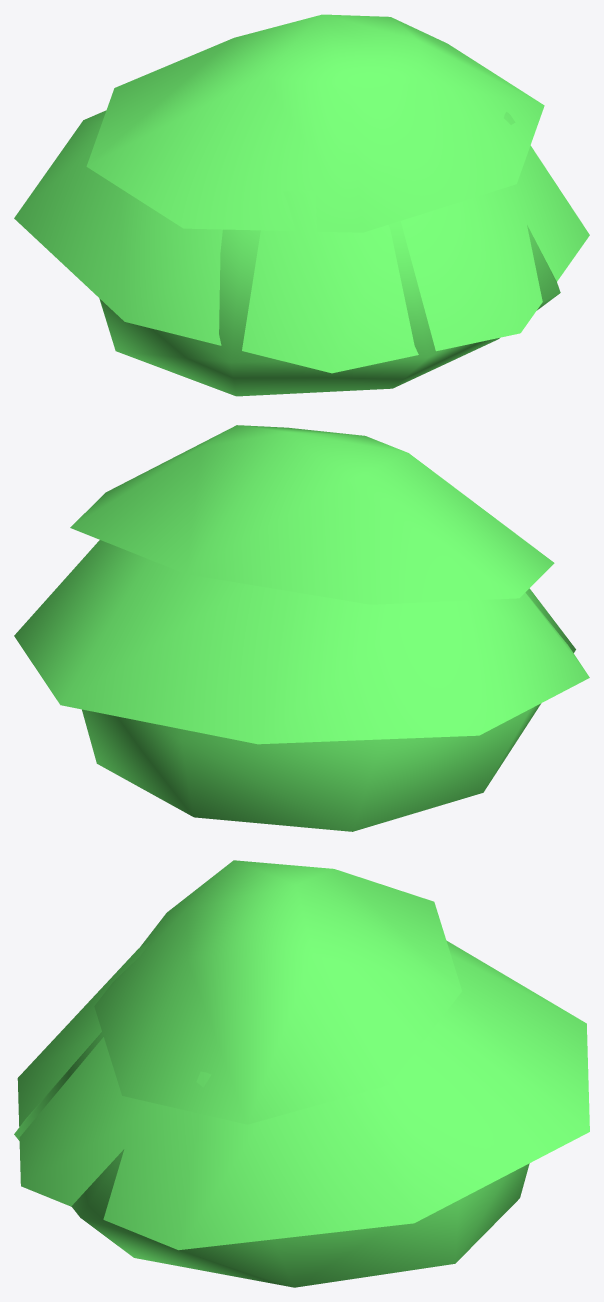
Rendered from Bush (4).fbx.
3 renders of one model, top to bottom at view 1: azimuth 30°, elevation 25°; view 2: azimuth 150°, elevation 25°; view 3: azimuth 270°, elevation 25°, orthographic. The views are drawn at different scales.
Visible parts, largest first — view 1: Cube.007; view 2: Cube.007; view 3: Cube.007.
Part boxes in pixels (x1,y1,x2,y2): Cube.007: (14,14,589,396); Cube.007: (14,425,589,831); Cube.007: (14,860,589,1287).
Bounding box in the file's own units: 616 × 377 × 618.
